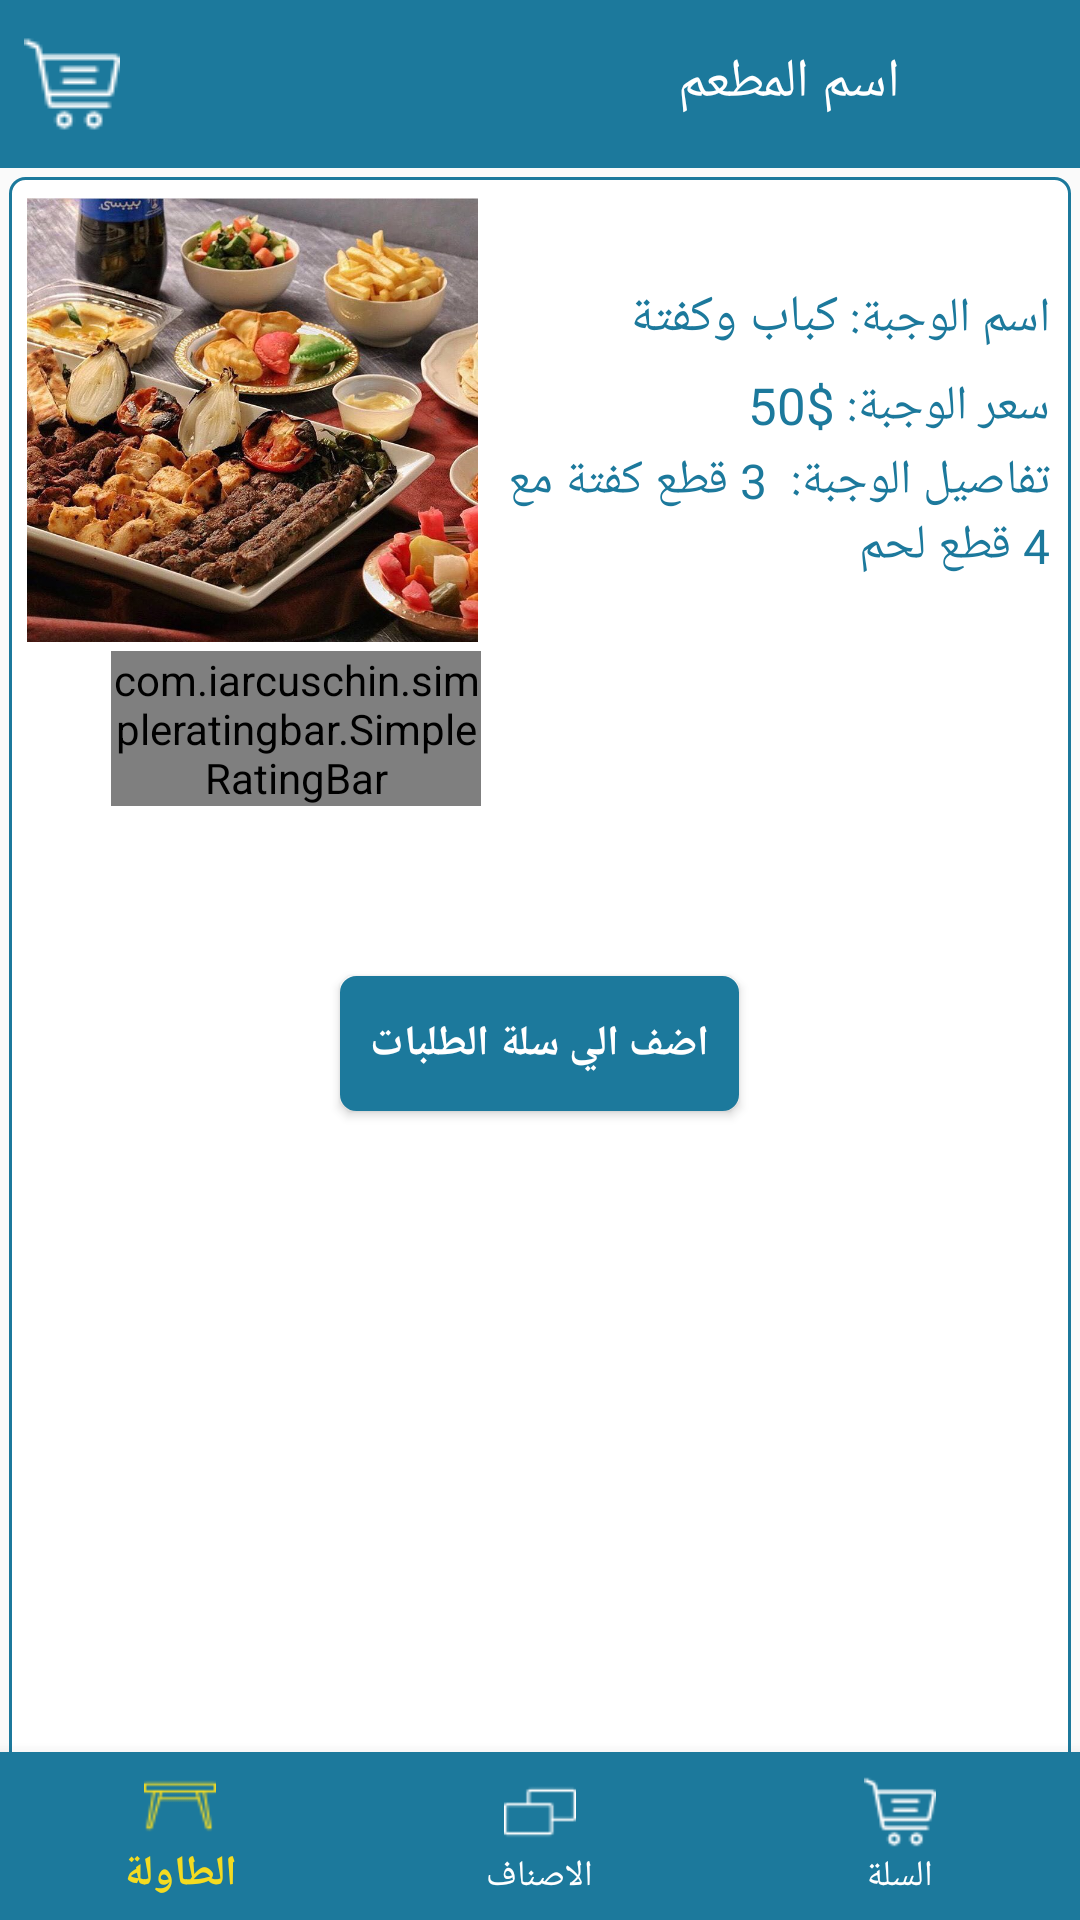

Point at icon controls on the screen. Image size 1080px x 1920px, points as (x=x, y=y).
cart: (x=72, y=84)
